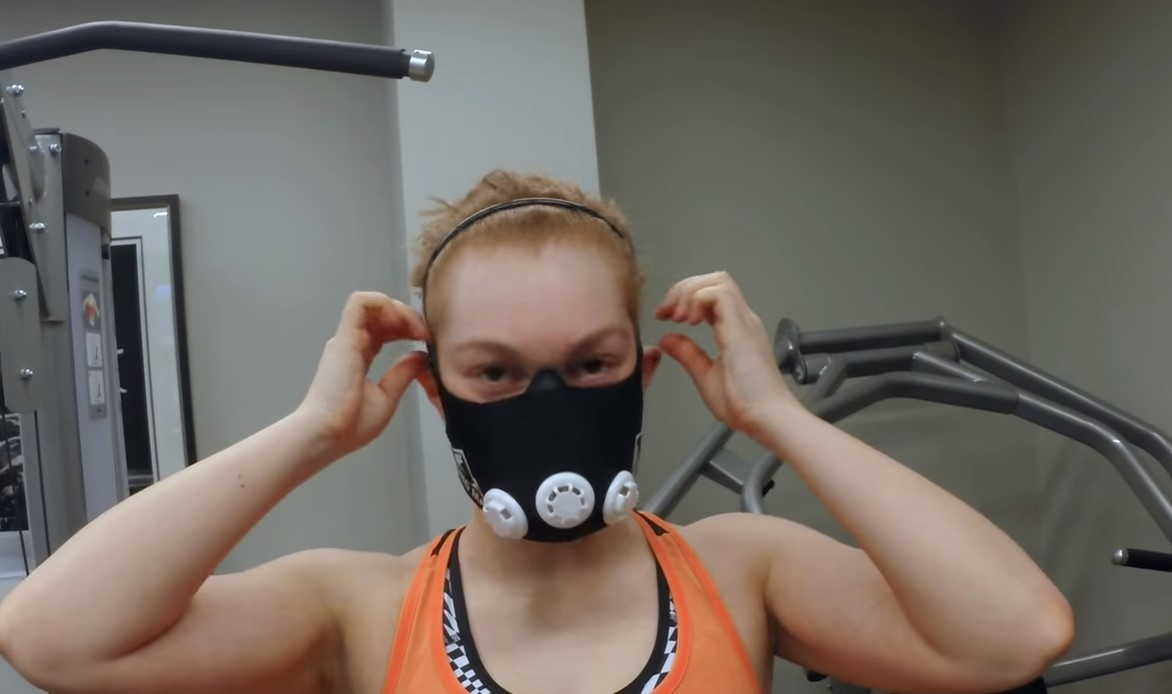face_with_mask: (421, 199, 654, 531)
